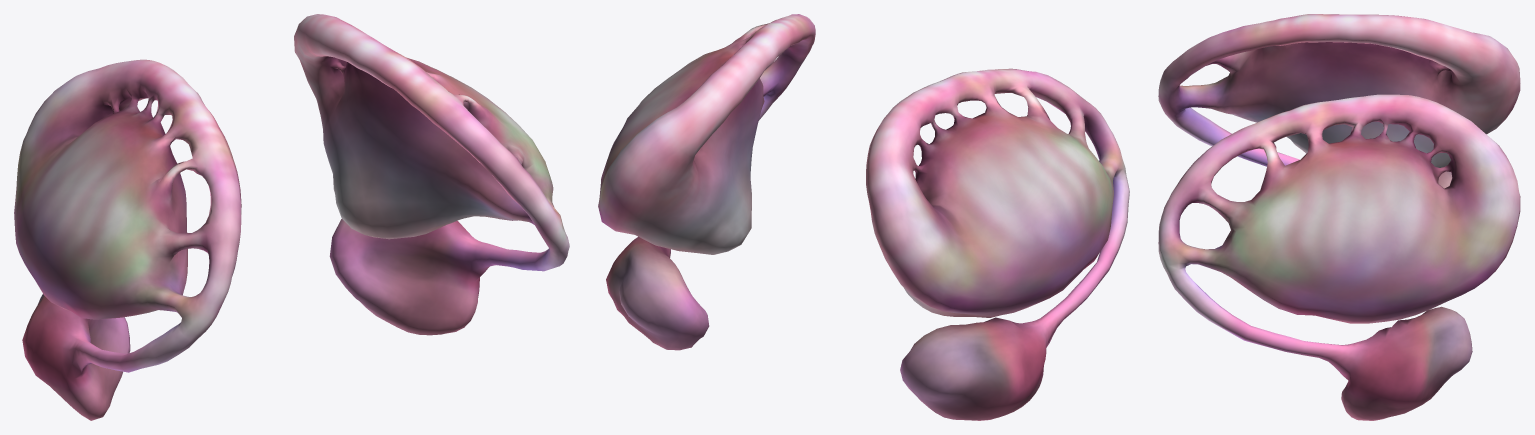
Rendered from LOWPOLYSTRIATUM.obj.
3 renders of one model, left to right at view 1: azimuth 30°, elevation 25°; view 2: azimuth 150°, elevation 25°; view 3: azimuth 270°, elevation 25°, orthographic. The views are drawn at different scales.
Visible parts, largest first — view 1: ricrob2019; view 2: ricrob2019; view 3: ricrob2019.
Part boxes in pixels (x1=…): ricrob2019: x1=14, y1=14, x2=569, y2=420; ricrob2019: x1=598, y1=14, x2=1129, y2=420; ricrob2019: x1=1158, y1=14, x2=1520, y2=420.
Bounding box in the file's own units: 892 × 586 × 662.
1 material, 1 textured.
